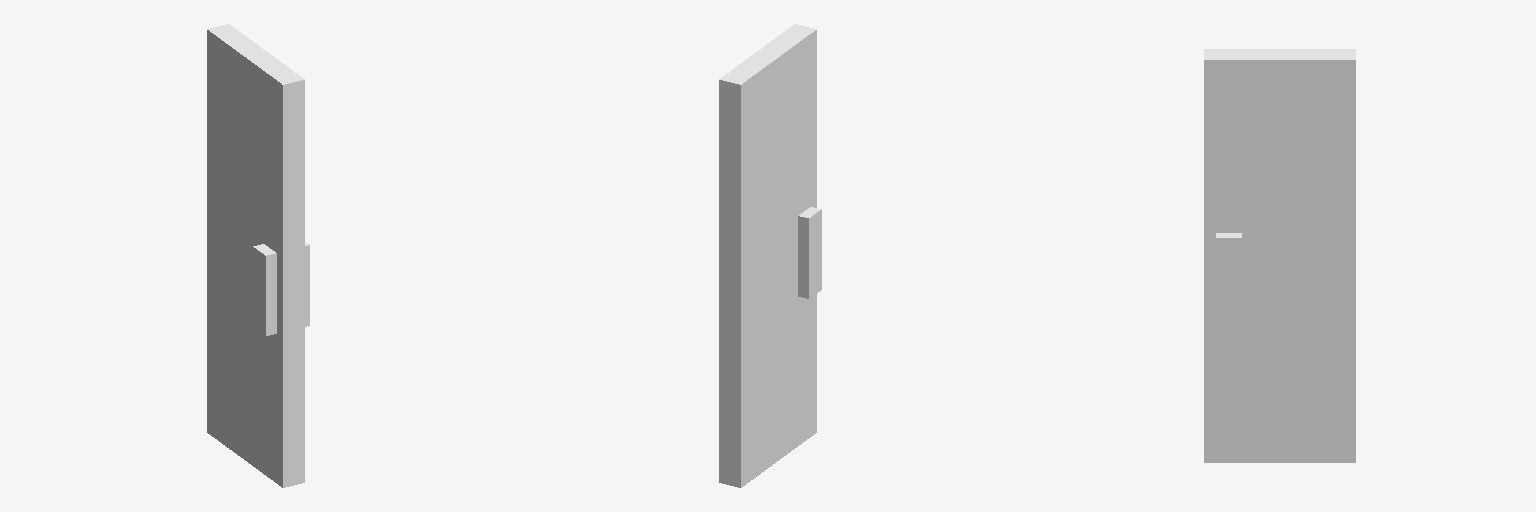
File: DoubleMetalDoor.obj
3 views of the same model, side by side, from view 1: azimuth 30°, elevation 25°; view 2: azimuth 150°, elevation 25°; view 3: azimuth 270°, elevation 25° (orthographic).
Visible parts, largest first — view 1: DoubleMetalDoor; view 2: DoubleMetalDoor; view 3: DoubleMetalDoor.
Part boxes in pixels (x1,y1,x2,y2): DoubleMetalDoor: (207, 24, 309, 487); DoubleMetalDoor: (719, 24, 821, 487); DoubleMetalDoor: (1204, 49, 1355, 462).
Size of the model in its own units: 4 by 35 by 12.